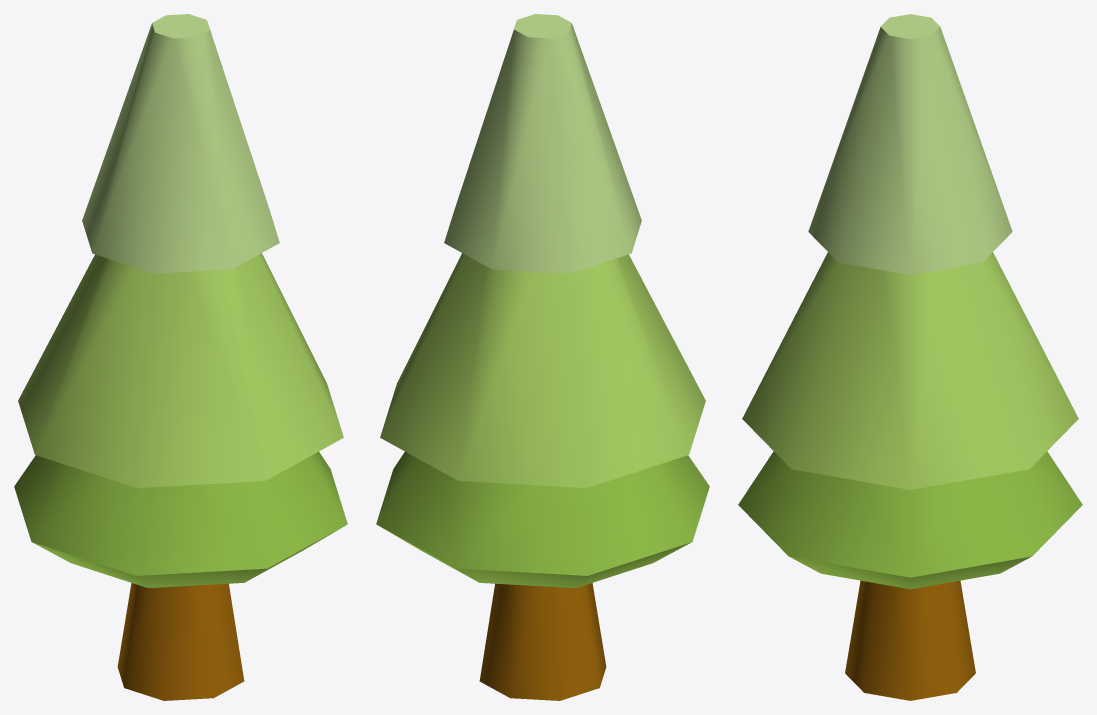
The model's file is tree1.fbx.
3 renders of one model, left to right at view 1: azimuth 30°, elevation 25°; view 2: azimuth 150°, elevation 25°; view 3: azimuth 270°, elevation 25°, orthographic.
Parts seen in each view (by area): view 1: tree1; view 2: tree1; view 3: tree1.
Part boxes in pixels (x1=…): tree1: x1=14, y1=14, x2=347, y2=700; tree1: x1=376, y1=14, x2=709, y2=700; tree1: x1=738, y1=14, x2=1082, y2=700.
Bounding box in the file's own units: 165 × 341 × 165.
